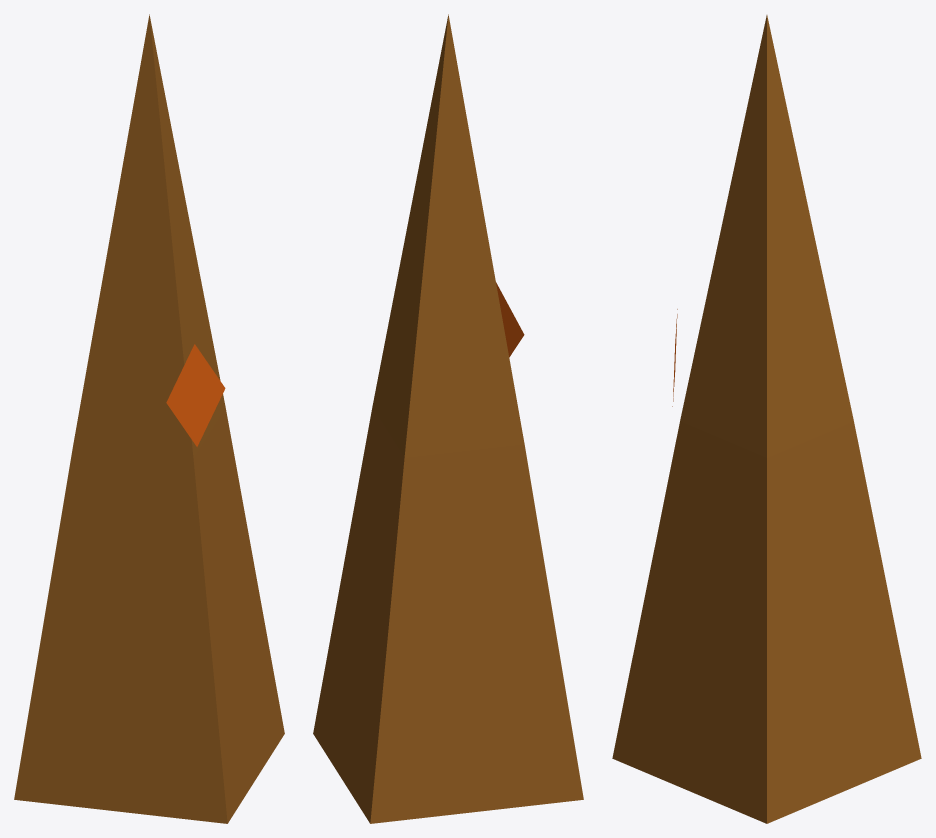
File: earth_spear.obj
The picture shows the model from 3 angles, left to right: view 1: azimuth 30°, elevation 25°; view 2: azimuth 150°, elevation 25°; view 3: azimuth 270°, elevation 25°; orthographic projection.
Visible parts, largest first — view 1: EarthSpear; view 2: EarthSpear; view 3: EarthSpear.
Boxes of the visible parts, left/top/right/bottom form: EarthSpear: left=14, top=14, right=284, bottom=823; EarthSpear: left=313, top=14, right=583, bottom=823; EarthSpear: left=612, top=15, right=921, bottom=823.
Bounding box in the file's own units: 0.64 × 1.7 × 0.64.
